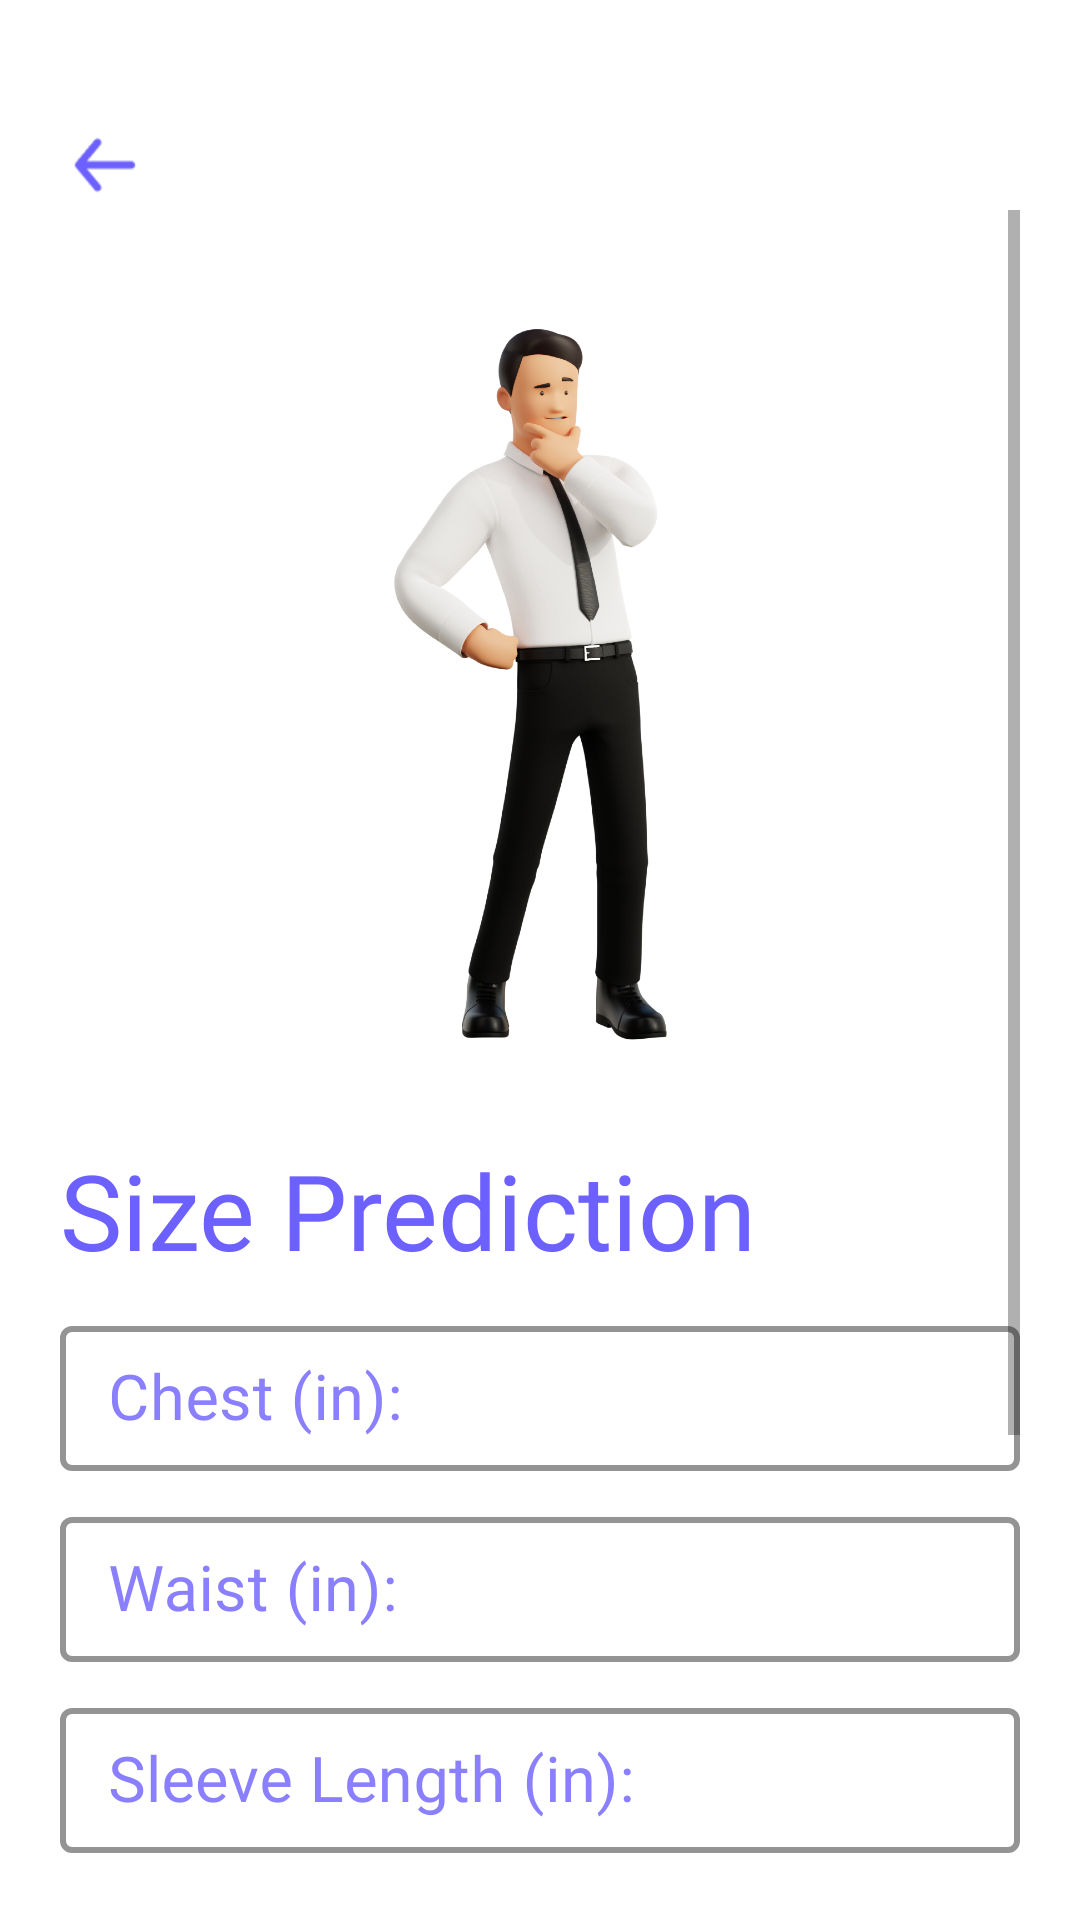

Point at icon controls on the screen. Image size 1080x1920, points as [x,y].
arrow back: [105,165]
